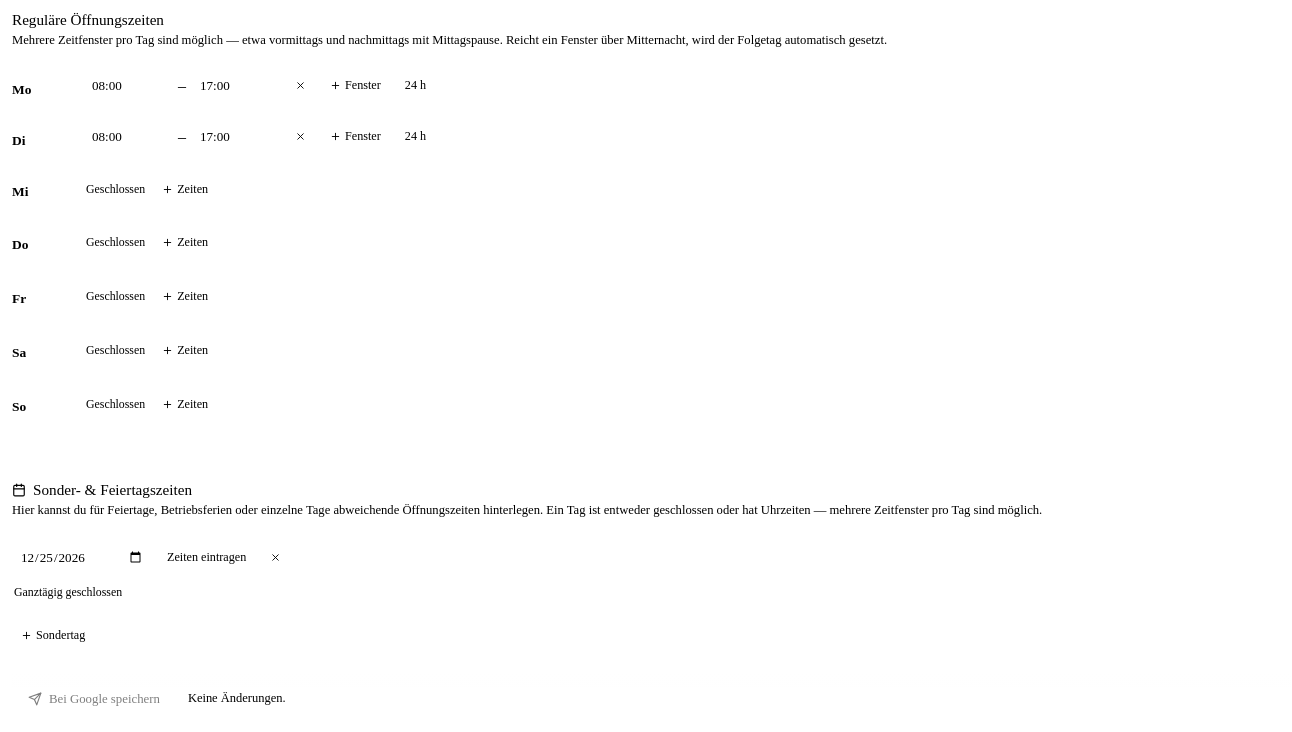
Test case: Nichts geht verloren › sendet nach dem Hin- und Zurückändern eines Werts nichts
This screenshot has width=1292, height=732.
Type "18:00" into the field named "Montag Schließung 1".
click(236, 86); type("18:00")  # box [192,72,280,100]
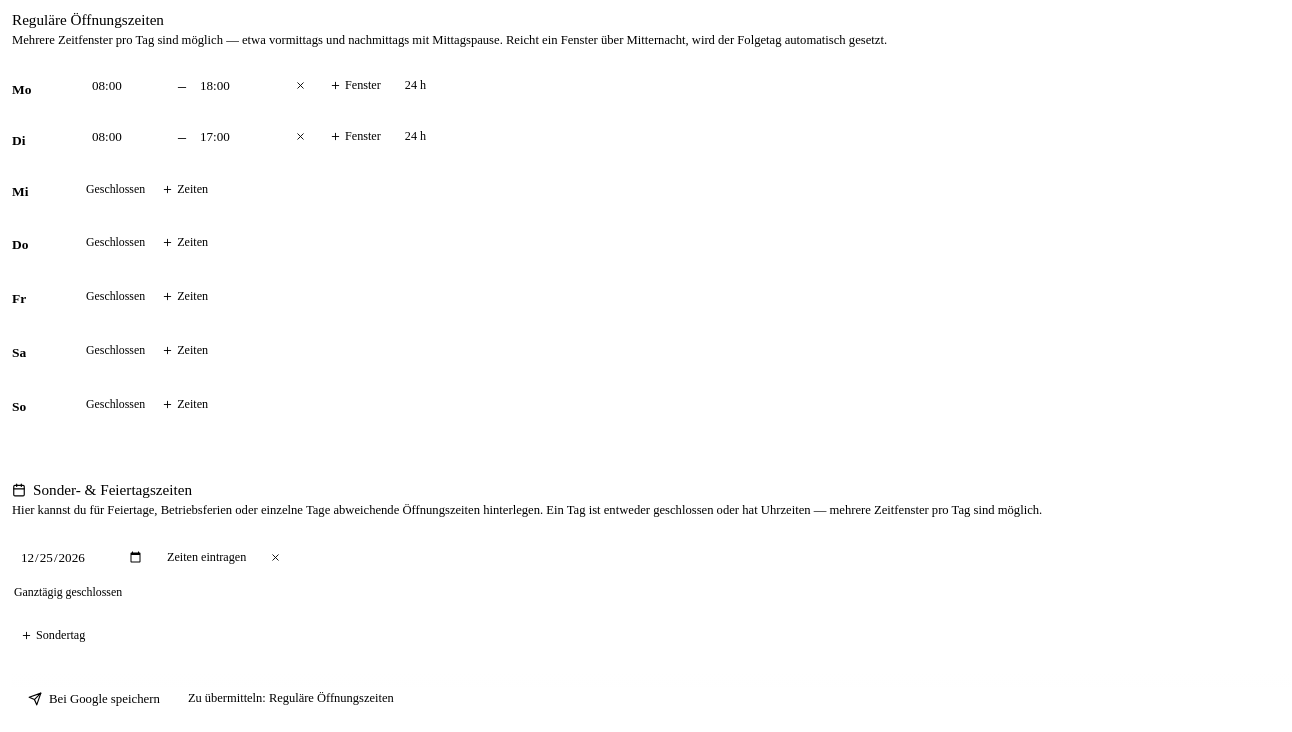
Check: the button "Bei Google speichern" is enabled, box [12,683,176,716]
Replace the text in the field named "Montag Schließung 1" with "17:00" at x=236, y=86, box [192,72,280,100]
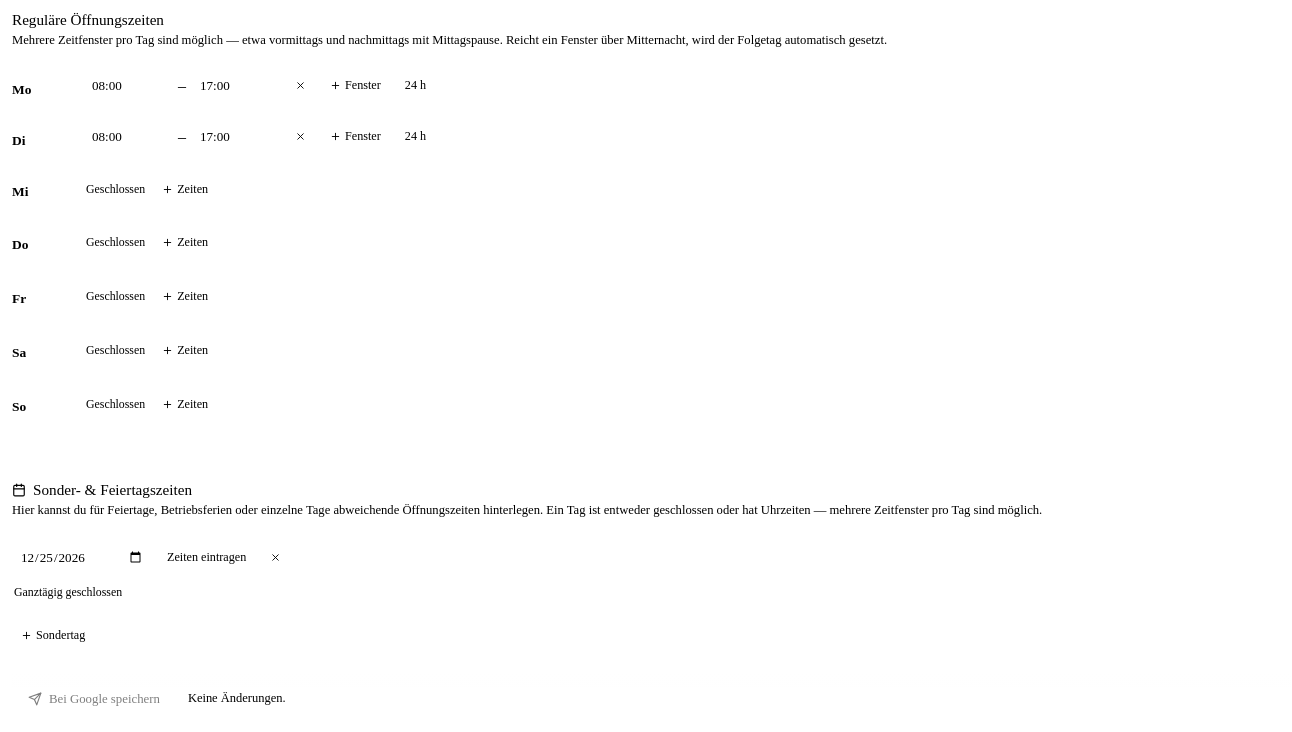
Check: the button "Bei Google speichern" is disabled, box [12,683,176,716]
